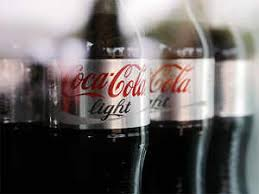coke-bottle-2l: (61, 1, 149, 192)
